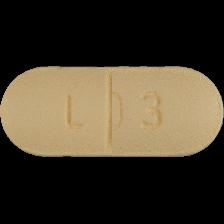68180-353: (0, 0, 224, 224)
